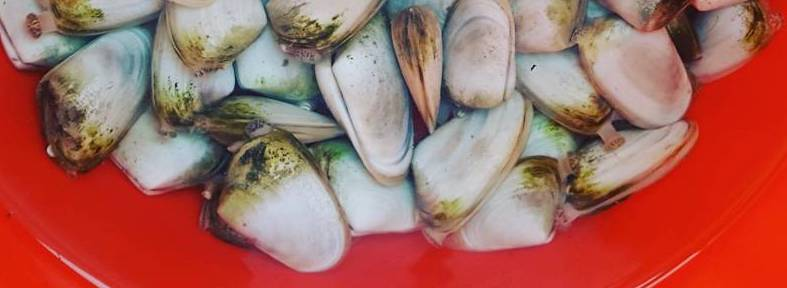tuatua: (196, 127, 349, 281), (403, 83, 535, 234), (31, 21, 152, 181), (316, 9, 421, 185), (578, 6, 699, 130), (561, 120, 703, 220), (449, 147, 563, 254), (104, 103, 219, 194), (514, 43, 617, 136), (441, 1, 525, 109), (191, 92, 335, 152), (389, 3, 448, 137), (262, 1, 390, 51)
